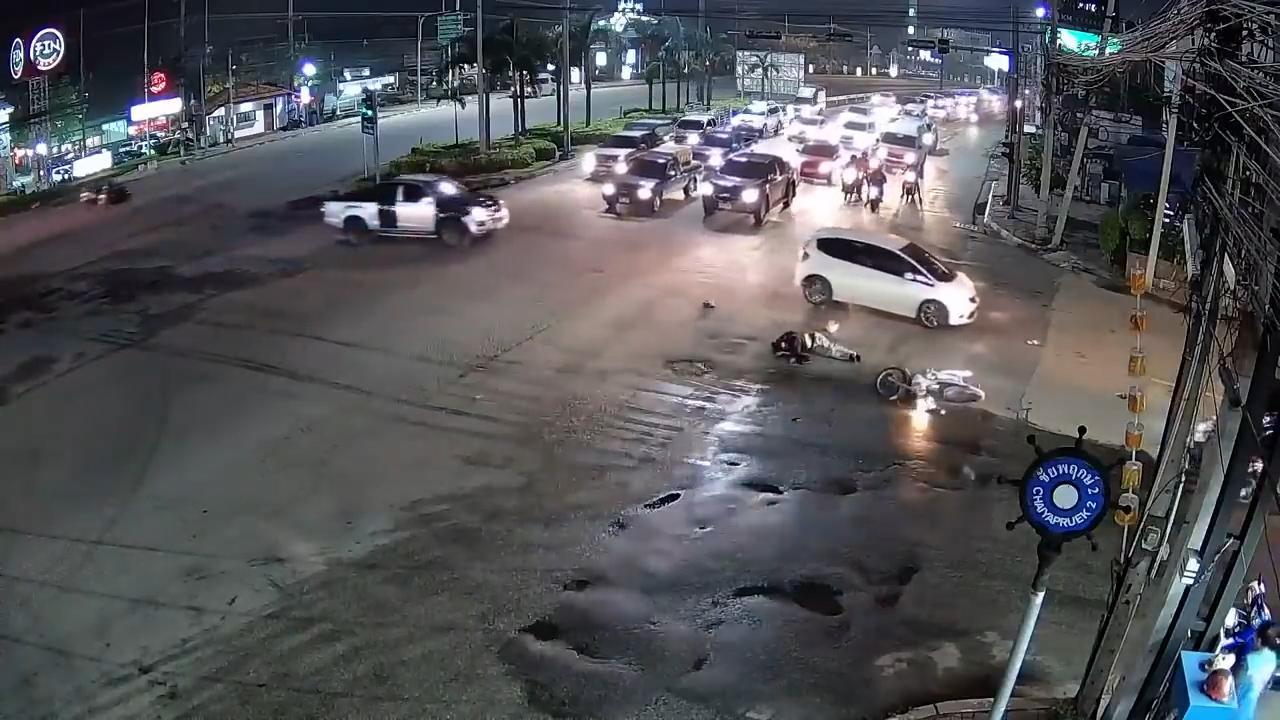accident: (762, 328, 871, 373)
